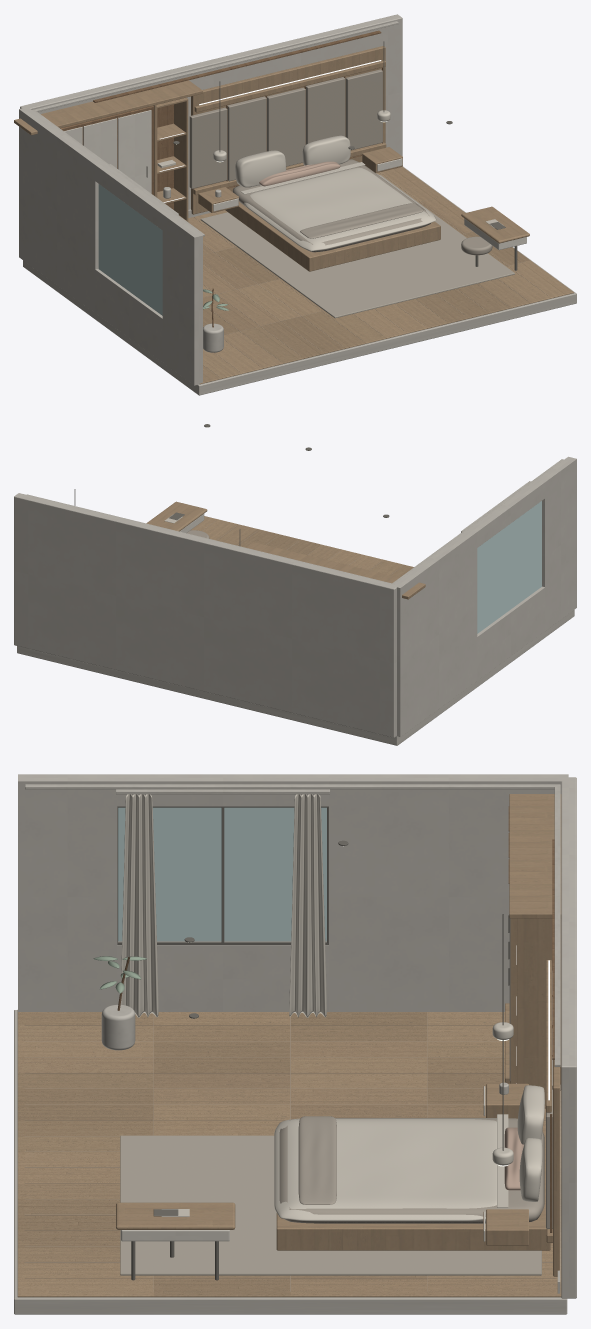
Rendered from win_space_02.glb.
3 renders of one model, top to bottom at view 1: azimuth 30°, elevation 25°; view 2: azimuth 150°, elevation 25°; view 3: azimuth 270°, elevation 25°, orthographic. The views are drawn at different scales.
Visible parts, largest first — view 1: ARCH_Bedroom oak floating floor, ARCH_Bedroom left rear pier, SOFT_Full bedroom wool rug, ARCH_Bedroom back wall, SOFT_Bed flat woven duvet, ARCH_Bedroom left front pier, ARCH_Bedroom structural floor, ARCH_Bedroom glazing, FURN_Bed low solid oak plinth, JOINERY_Headboard recessed oak backing, ARCH_Bedroom window sill wall, JOINERY_Wardrobe crown (+26 smaller); view 2: ARCH_Bedroom back wall, ARCH_Bedroom left rear pier, ARCH_Bedroom glazing, ARCH_Bedroom left front pier, ARCH_Bedroom structural floor, ARCH_Bedroom oak floating floor, ARCH_Bedroom window sill wall, ARCH_Bedroom window head, JOINERY_Wardrobe crown, JOINERY_Vanity oak top, ARCH_Left painted cornice, ARCH_Back painted cornice; view 3: ARCH_Bedroom oak floating floor, ARCH_Bedroom left rear pier, SOFT_Full bedroom wool rug, ARCH_Bedroom left front pier, ARCH_Bedroom glazing, SOFT_Bed flat woven duvet, ARCH_Bedroom structural floor, ARCH_Bedroom window sill wall, ARCH_Bedroom back wall, SOFT_Right linen bedroom curtain, SOFT_Left linen bedroom curtain, FURN_Bed low solid oak plinth (+20 smaller).
Part boxes in pixels (box(x1,y1,x2,y2)): ARCH_Bedroom oak floating floor: box(188, 166, 573, 384); ARCH_Bedroom left rear pier: box(19, 108, 103, 312); SOFT_Full bedroom wool rug: box(200, 175, 514, 318); ARCH_Bedroom back wall: box(20, 14, 402, 209); SOFT_Bed flat woven duvet: box(244, 167, 436, 251); ARCH_Bedroom left front pier: box(162, 212, 202, 385); ARCH_Bedroom structural floor: box(23, 166, 576, 395); ARCH_Bedroom glazing: box(98, 184, 162, 315); FURN_Bed low solid oak plinth: box(225, 202, 440, 271); JOINERY_Headboard recessed oak backing: box(191, 46, 385, 214); ARCH_Bedroom window sill wall: box(95, 269, 162, 361); JOINERY_Wardrobe crown: box(14, 80, 202, 135); ARCH_Bedroom back wall: box(14, 493, 397, 737); ARCH_Bedroom left rear pier: box(393, 529, 477, 736); ARCH_Bedroom glazing: box(477, 501, 541, 633); ARCH_Bedroom left front pier: box(537, 456, 576, 630); ARCH_Bedroom structural floor: box(17, 610, 574, 745); ARCH_Bedroom oak floating floor: box(191, 516, 413, 577); ARCH_Bedroom window sill wall: box(477, 586, 545, 680); ARCH_Bedroom window head: box(469, 480, 545, 547); JOINERY_Wardrobe crown: box(245, 542, 425, 599); JOINERY_Vanity oak top: box(146, 501, 207, 531); ARCH_Left painted cornice: box(392, 459, 563, 583); ARCH_Back painted cornice: box(27, 494, 393, 584); ARCH_Bedroom oak floating floor: box(17, 1010, 561, 1297); ARCH_Bedroom left rear pier: box(329, 774, 568, 1011); SOFT_Full bedroom wool rug: box(120, 1135, 541, 1275); ARCH_Bedroom left front pier: box(18, 774, 117, 1011); ARCH_Bedroom glazing: box(118, 807, 326, 941); SOFT_Bed flat woven duvet: box(274, 1118, 496, 1220); ARCH_Bedroom structural floor: box(14, 1010, 567, 1314); ARCH_Bedroom window sill wall: box(117, 941, 328, 1011); ARCH_Bedroom back wall: box(561, 777, 576, 1298); SOFT_Right linen bedroom curtain: box(289, 794, 326, 1017); SOFT_Left linen bedroom curtain: box(120, 794, 158, 1017); FURN_Bed low solid oak plinth: box(276, 1128, 550, 1250).
Size of the model in its own units: 8 by 3.12 by 6.41.
Materials: 17 (11 with a texture image).
